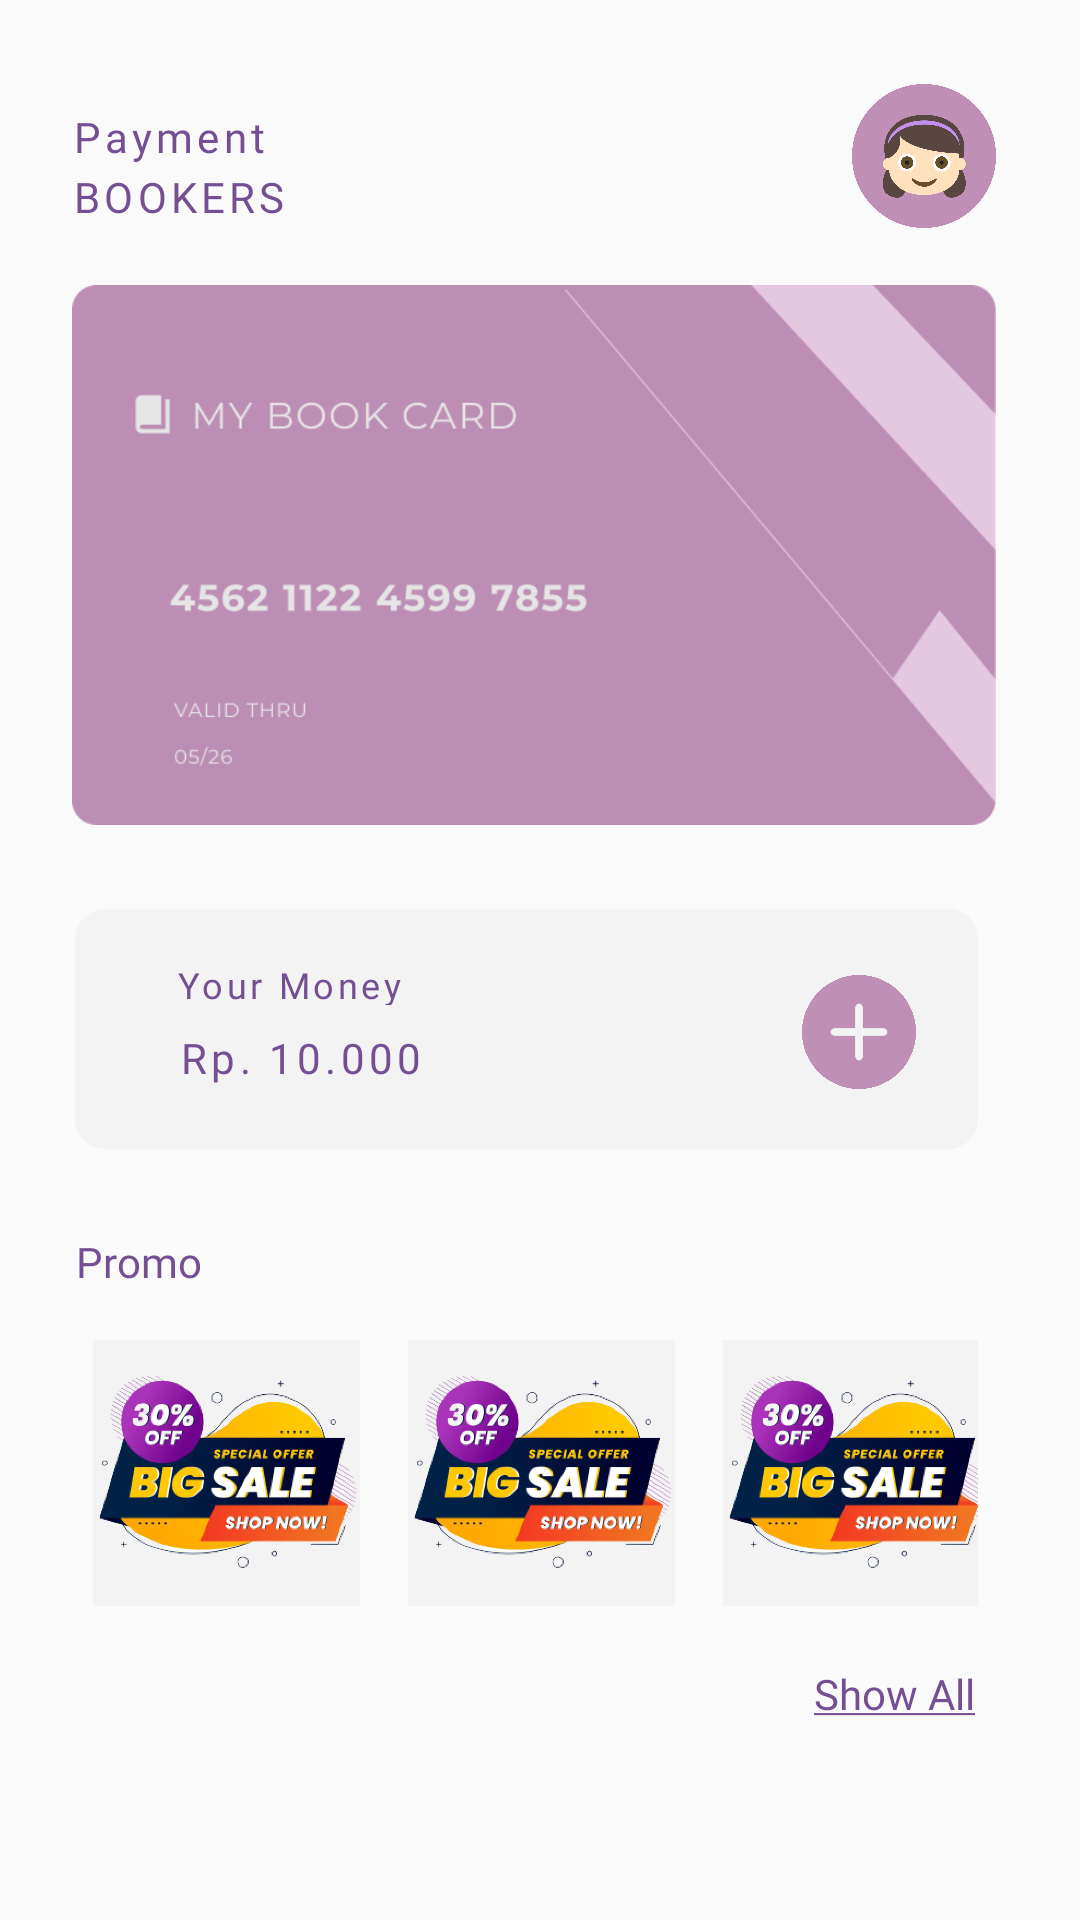

Icon click points for this 1080x1920 phone screenshot, format (x,y):
plus: (859,1032)
